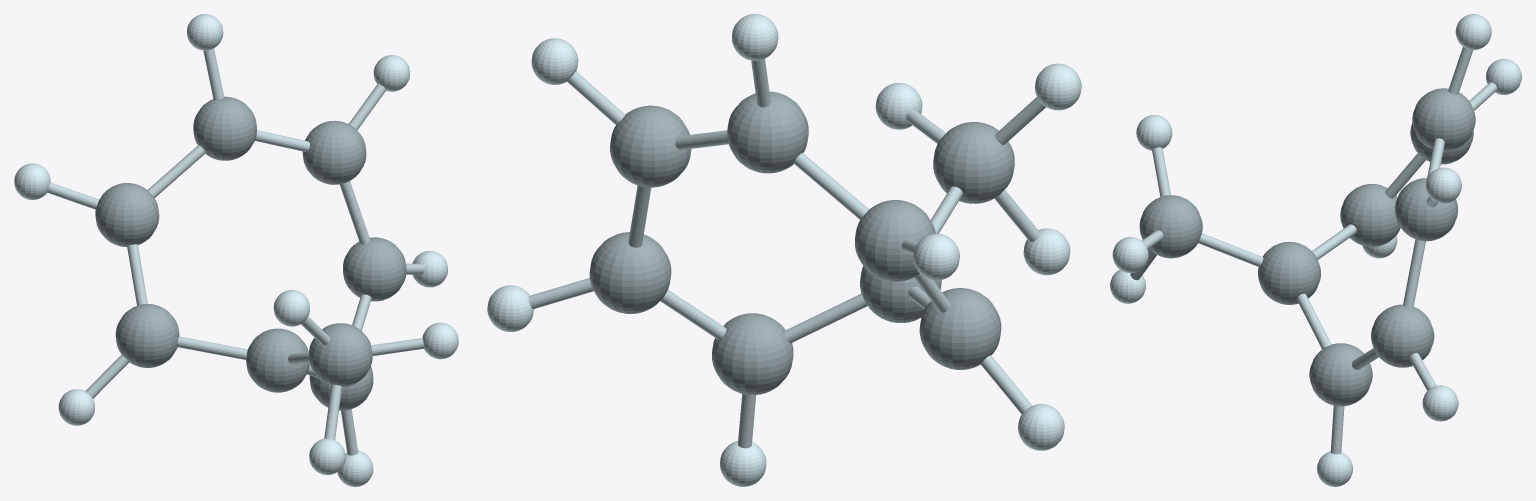
Rendered from irc_step_289.glb.
3 views of the same model, side by side, from view 1: azimuth 30°, elevation 25°; view 2: azimuth 150°, elevation 25°; view 3: azimuth 270°, elevation 25° (orthographic). The views are drawn at different scales.
Parts seen in each view (by area): view 1: Renderer Node; view 2: Renderer Node; view 3: Renderer Node.
Part boxes in pixels (bbox=[...]): Renderer Node: bbox=[14, 14, 458, 486]; Renderer Node: bbox=[487, 14, 1081, 486]; Renderer Node: bbox=[1110, 14, 1521, 486].
Size of the model in its own units: 5.23 by 5.26 by 4.55.
